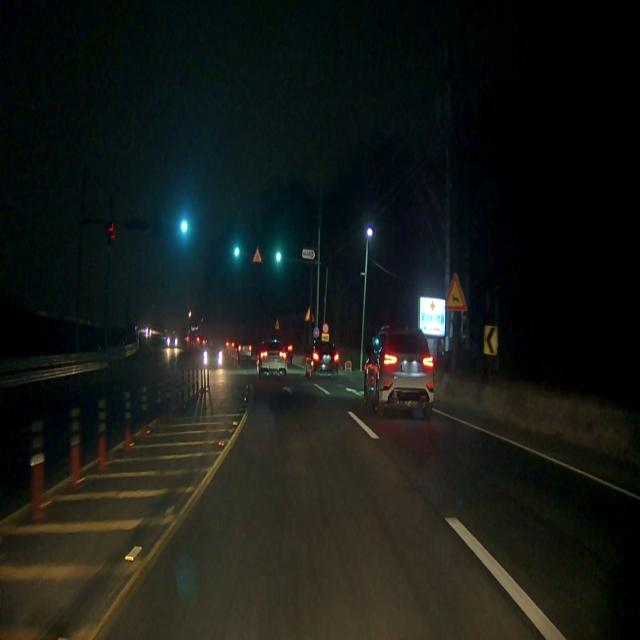Green Light: (275, 250, 282, 264), (234, 246, 240, 258)
